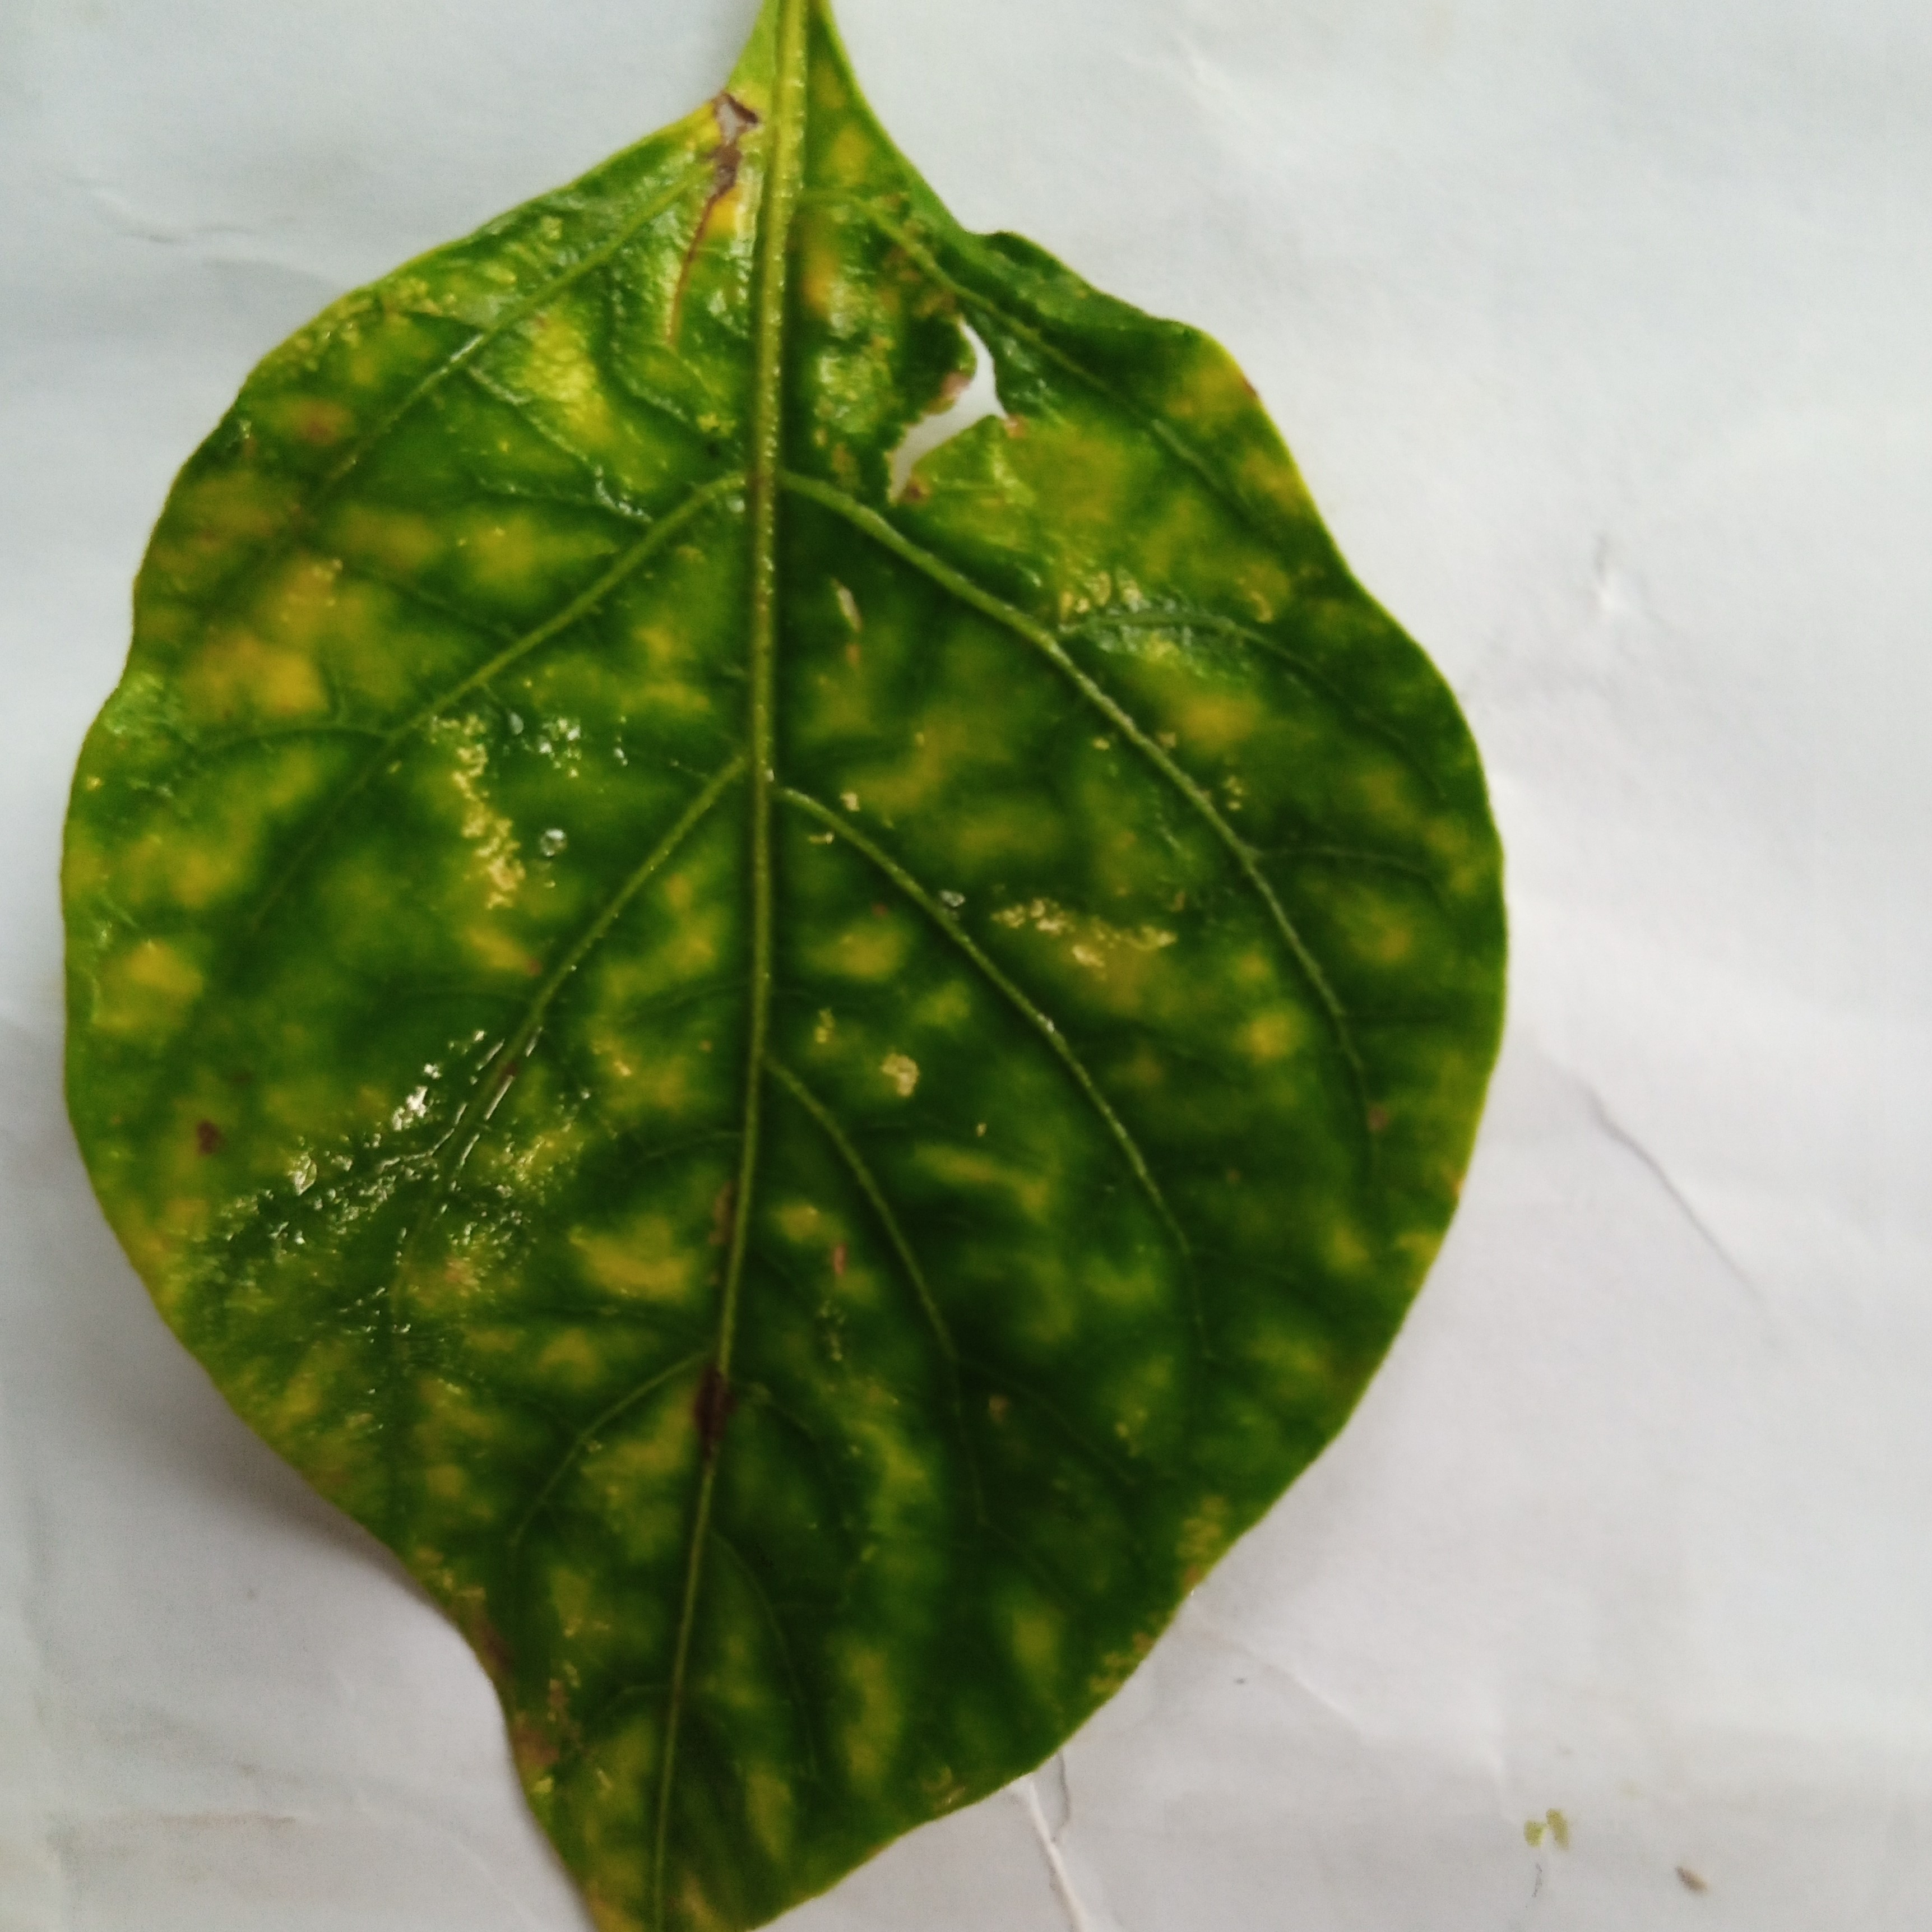Leaf: (30, 78, 1559, 1932)
